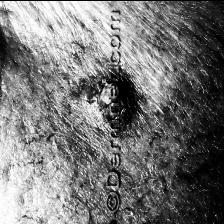Potentially Malignant Skin Tumors: (92, 78, 136, 134)
